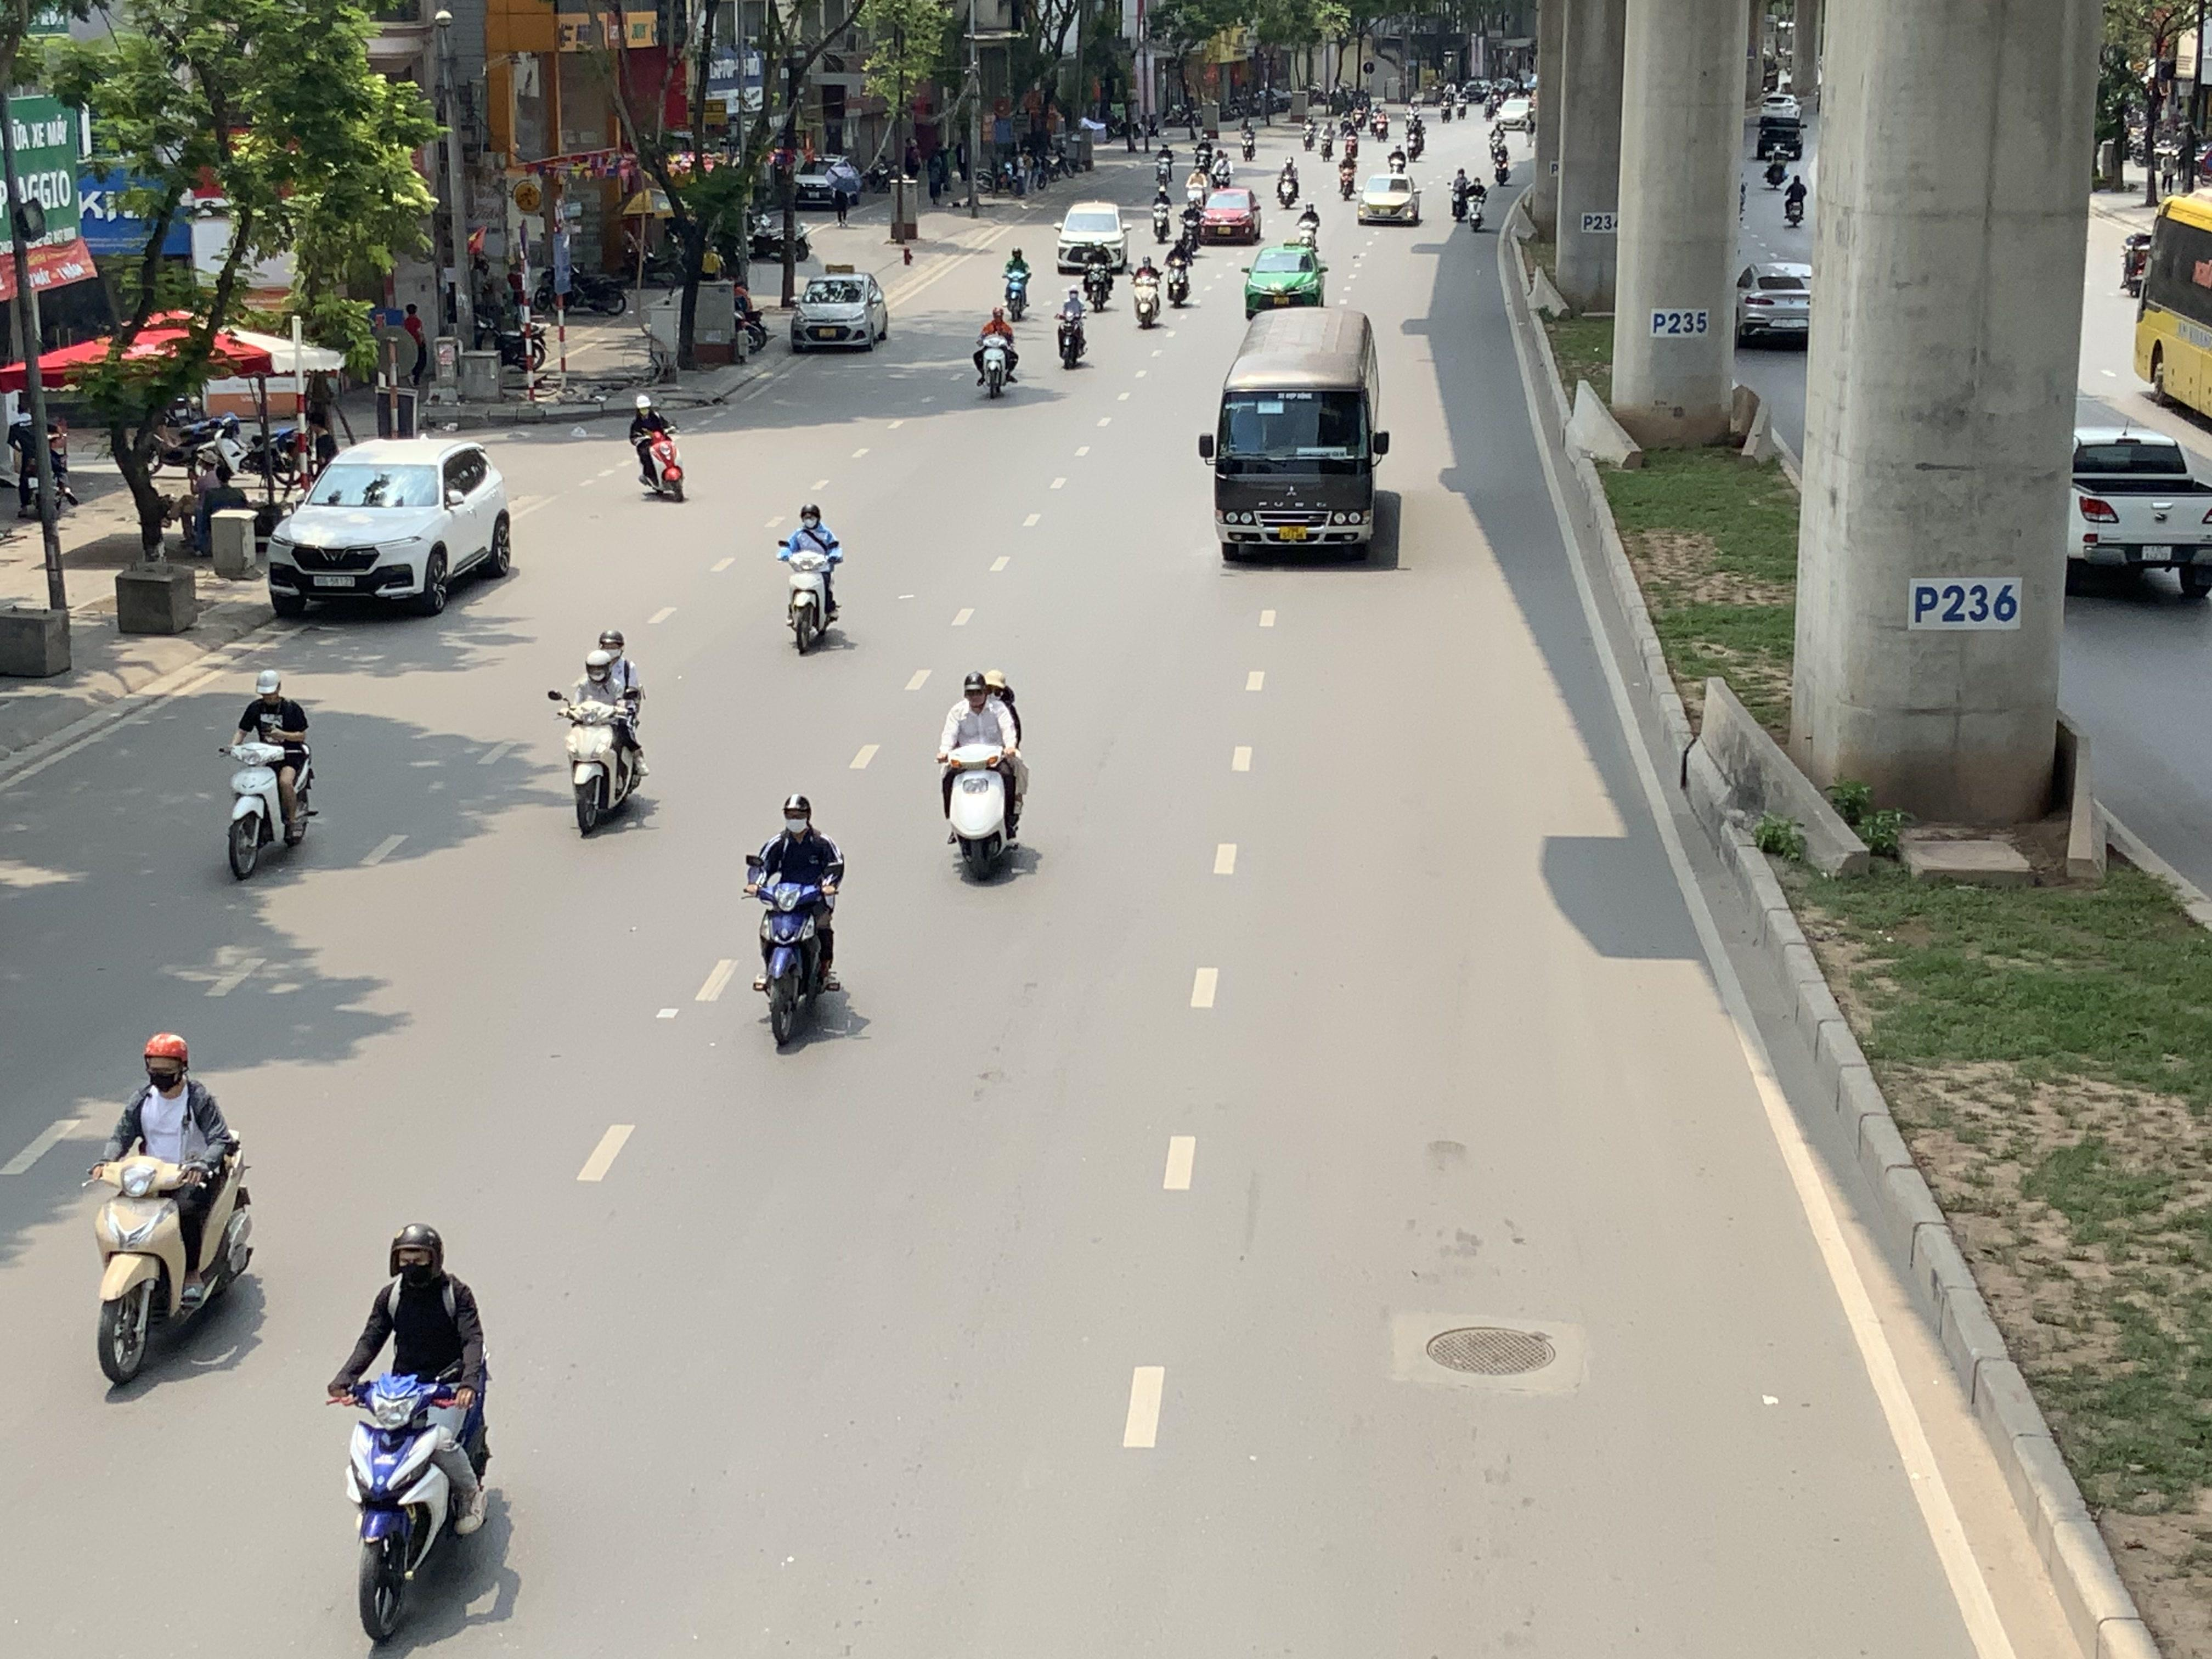BSV: (1278, 525, 1308, 540)
bus: (1197, 305, 1393, 565)
car: (265, 436, 516, 620), (2069, 416, 2212, 599), (789, 270, 888, 352), (1731, 263, 1813, 347), (1240, 242, 1327, 317), (1054, 199, 1130, 272), (1197, 186, 1263, 244), (1355, 171, 1423, 227)
motorbike: (327, 1220, 502, 1650), (89, 1032, 258, 1394), (745, 793, 845, 1053), (223, 669, 315, 882), (937, 669, 1028, 885), (552, 631, 646, 838), (779, 502, 845, 655), (631, 394, 686, 502), (974, 301, 1021, 397), (1054, 281, 1090, 369), (1082, 244, 1116, 314), (1130, 254, 1163, 328), (1001, 246, 1035, 319), (1165, 227, 1195, 307), (1463, 173, 1489, 232), (1296, 195, 1324, 249), (1150, 185, 1176, 242), (1179, 197, 1204, 256), (1275, 155, 1301, 209), (1447, 166, 1472, 223), (1784, 174, 1808, 227), (1336, 152, 1359, 200)
